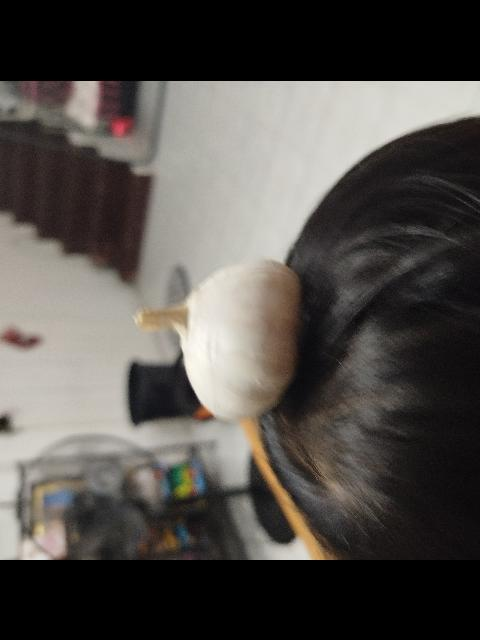garlic: (133, 258, 303, 420)
